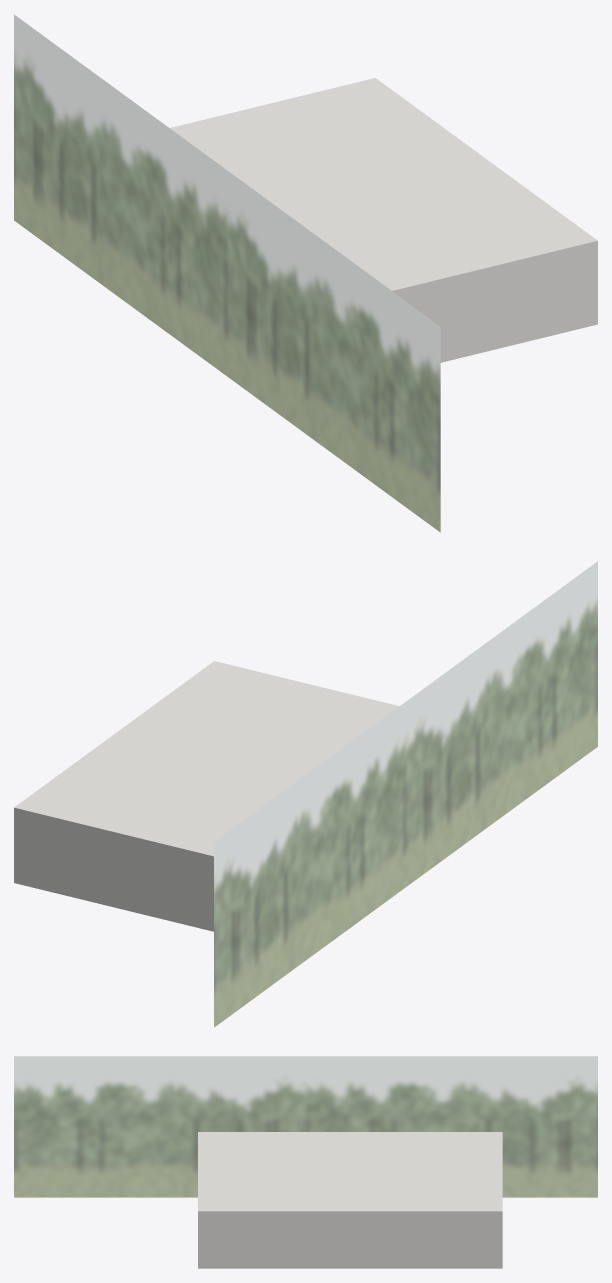
The model's file is T_small_elegant_B.glb.
3 renders of one model, top to bottom at view 1: azimuth 30°, elevation 25°; view 2: azimuth 150°, elevation 25°; view 3: azimuth 270°, elevation 25°, orthographic. The views are drawn at different scales.
Parts seen in each view (by area): view 1: T_daylight_glow, Hall; view 2: T_daylight_glow, Hall; view 3: T_daylight_glow, Hall.
Part boxes in pixels (bbox=[...]): T_daylight_glow: bbox=[14, 14, 440, 532]; Hall: bbox=[170, 78, 597, 362]; T_daylight_glow: bbox=[214, 561, 597, 1027]; Hall: bbox=[14, 661, 399, 931]; T_daylight_glow: bbox=[14, 1056, 597, 1197]; Hall: bbox=[198, 1132, 502, 1268].
Bounding box in the file's own units: 23.7 × 16 × 60.
8 materials, 2 textured.
